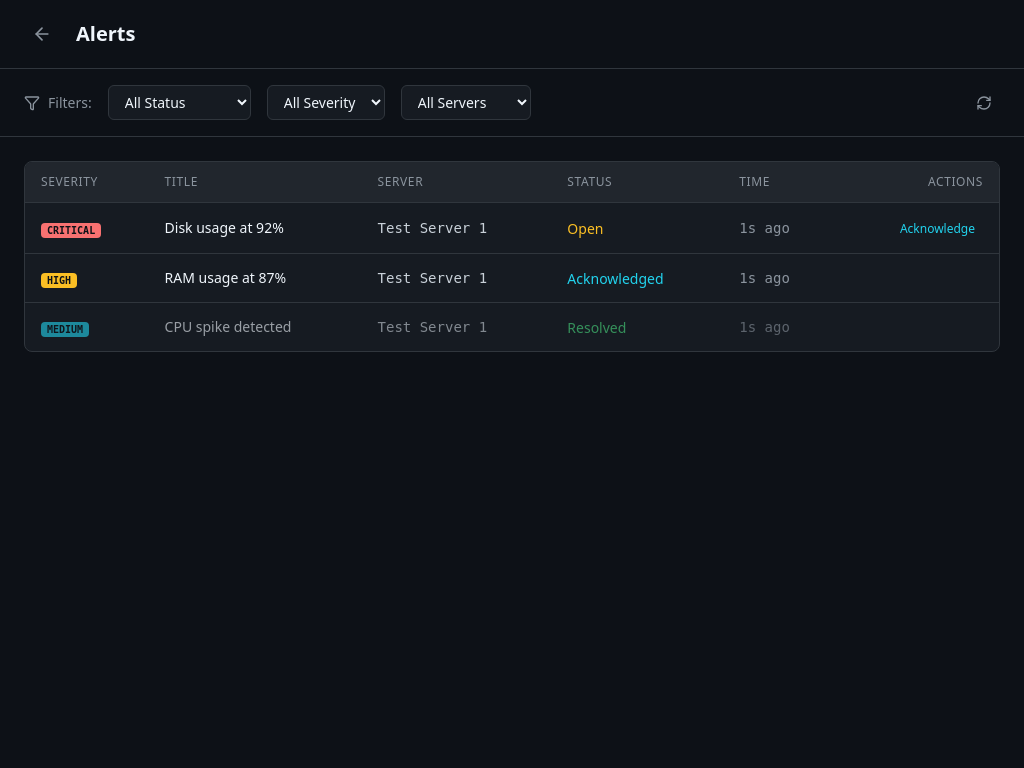
Scenario: AlertsPage › Alert detail view (AC4) › closes detail panel when clicking close button
What coordinates should you click on to do the following:
click the row with test id "alert-row-1"
I would click on:
 (512, 228)
Its box is top-left (25, 202), bottom-right (999, 254).
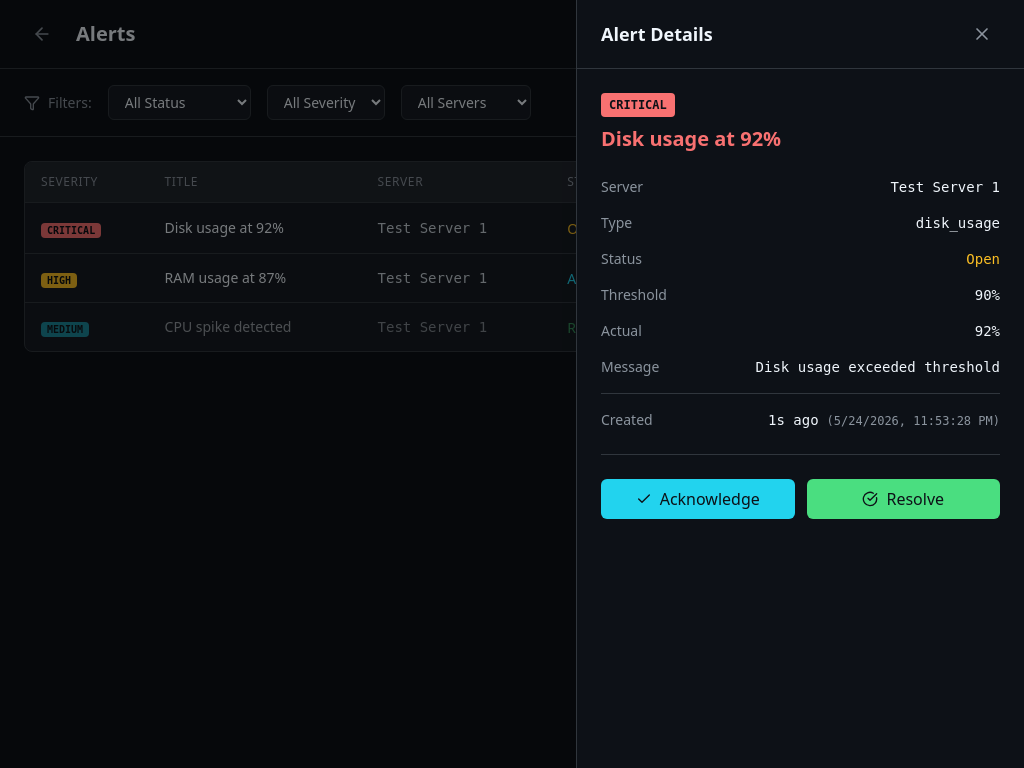
Expected: the element with test id "alert-detail-panel" is shown, top-left (576, 0), bottom-right (1023, 767)
What coordinates should you click on to do the following:
click the button with test id "close-panel-button"
I would click on:
 (982, 34)
Its box is top-left (964, 16), bottom-right (1000, 52).
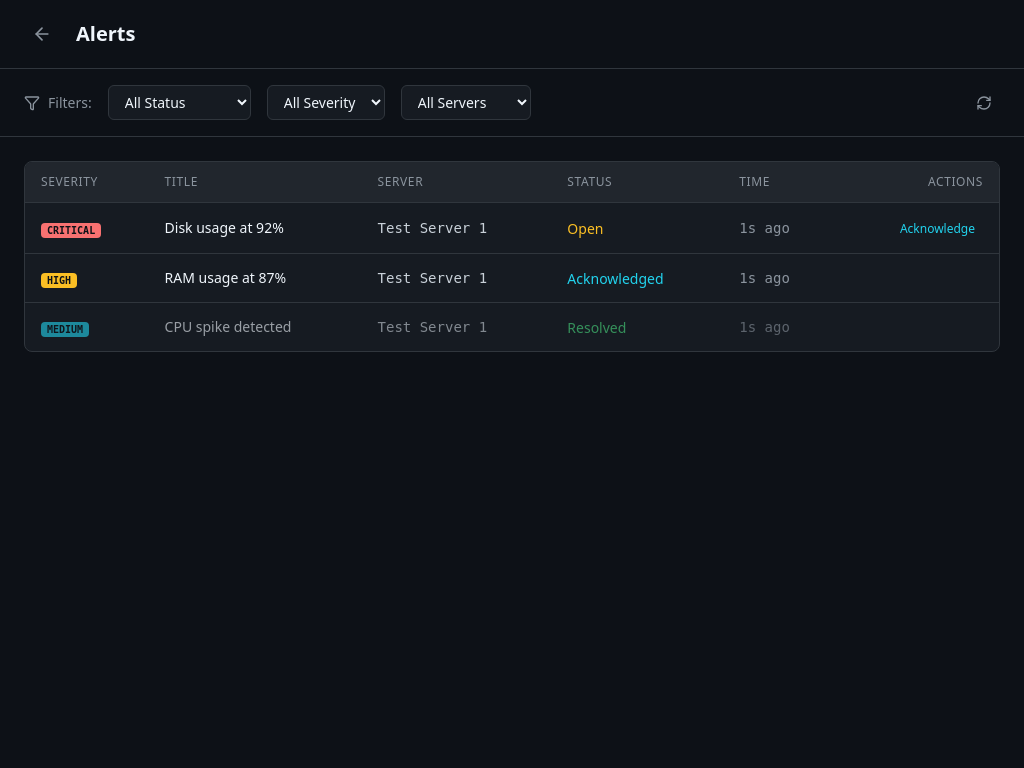
Expected: the element with test id "alert-detail-panel" is gone
